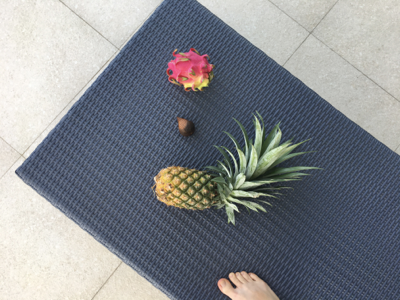dragon fruit: (166, 48, 216, 92)
pineapple: (153, 112, 321, 225)
snake fruit: (176, 115, 196, 136)
